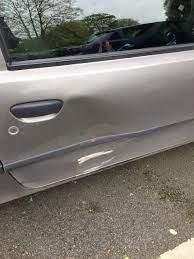doorouter-dent: (1, 60, 193, 178)
